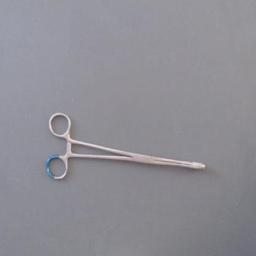Sponge Forceps: (42, 108, 212, 186)
